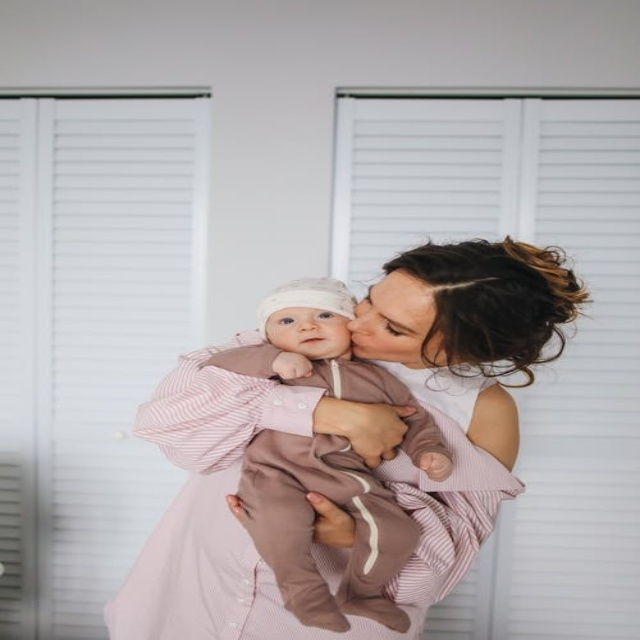Sin_gafas: (361, 287, 419, 340), (274, 310, 333, 327)
Sin_guantes: (315, 397, 414, 466), (306, 493, 356, 549)
Sin_mascara: (351, 332, 390, 358), (296, 334, 335, 348)
